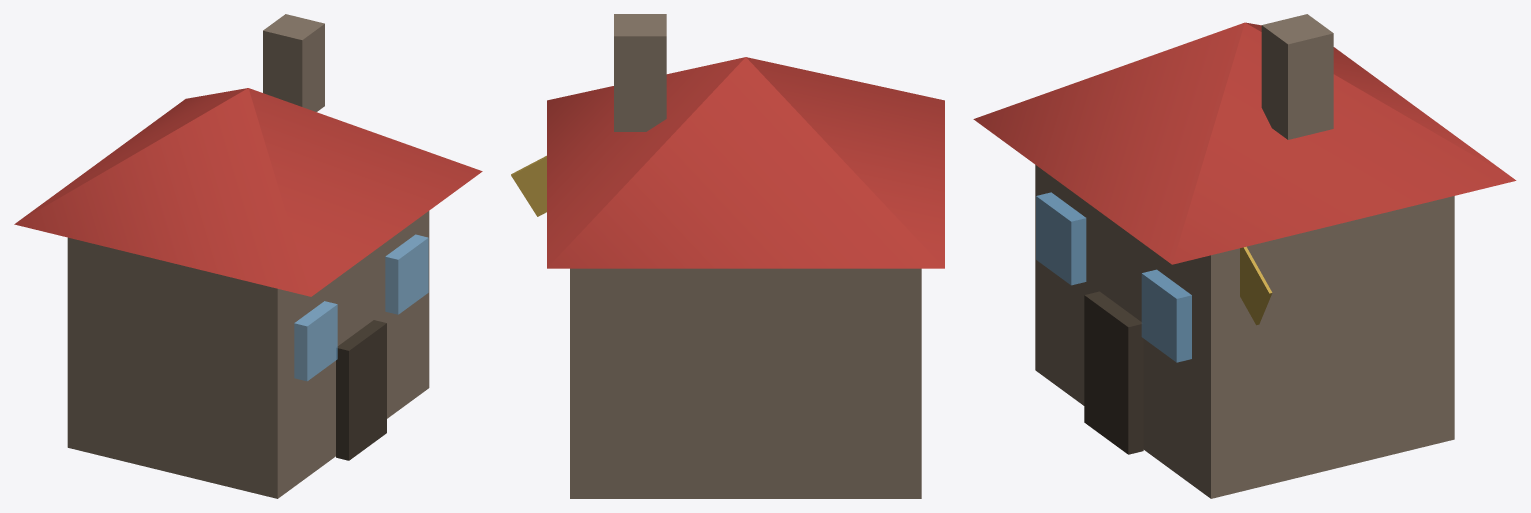
File: house.glb
3 views of the same model, side by side, from view 1: azimuth 30°, elevation 25°; view 2: azimuth 150°, elevation 25°; view 3: azimuth 270°, elevation 25° (orthographic). The views are drawn at different scales.
Size of the model in its own units: 1.55 by 1.3 by 1.55.
